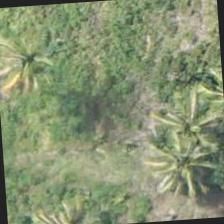Kelapa_Sawit: (0, 12, 73, 108)
